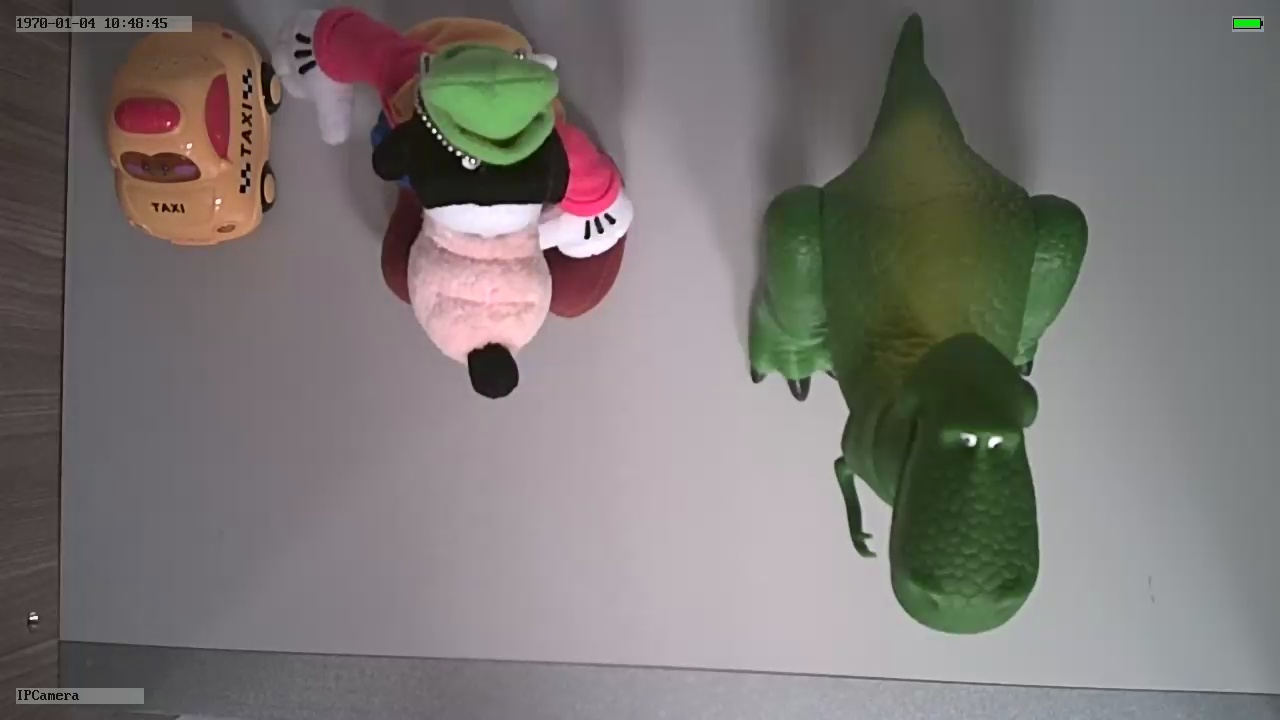car: (107, 23, 281, 249)
goofy: (268, 10, 635, 398)
rex: (748, 74, 1089, 637)
